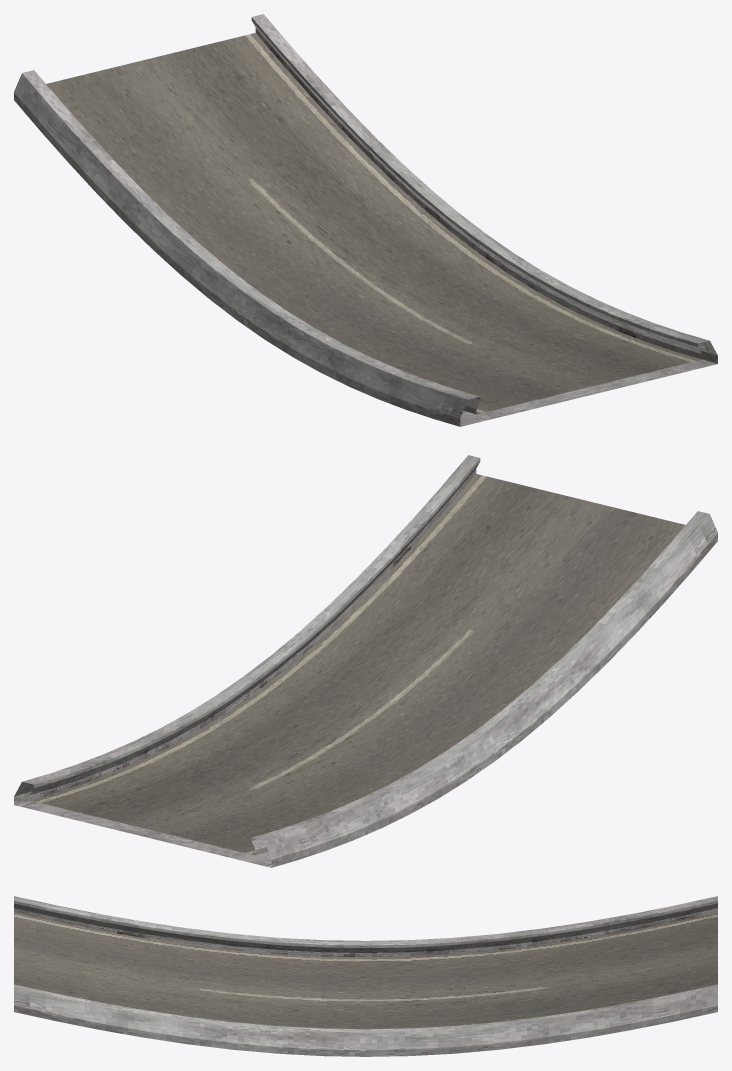
File: road-Straight-BiSlopeDown-BiSlopeUp-Even-Center-Size3.glb
3 views of the same model, one above another, from view 1: azimuth 30°, elevation 25°; view 2: azimuth 150°, elevation 25°; view 3: azimuth 270°, elevation 25° (orthographic). The views are drawn at different scales.
Parts seen in each view (by area): view 1: road-Straight-BiSlopeDown-BiSlopeUp-Even-Center-Size3; view 2: road-Straight-BiSlopeDown-BiSlopeUp-Even-Center-Size3; view 3: road-Straight-BiSlopeDown-BiSlopeUp-Even-Center-Size3.
Part boxes in pixels (left/top/right/bottom): road-Straight-BiSlopeDown-BiSlopeUp-Even-Center-Size3: left=14, top=14, right=717, bottom=426; road-Straight-BiSlopeDown-BiSlopeUp-Even-Center-Size3: left=14, top=455, right=717, bottom=867; road-Straight-BiSlopeDown-BiSlopeUp-Even-Center-Size3: left=14, top=896, right=717, bottom=1056.
Bounding box in the file's own units: 1 × 0.3047 × 3.
Materials: 2 (2 with a texture image).
